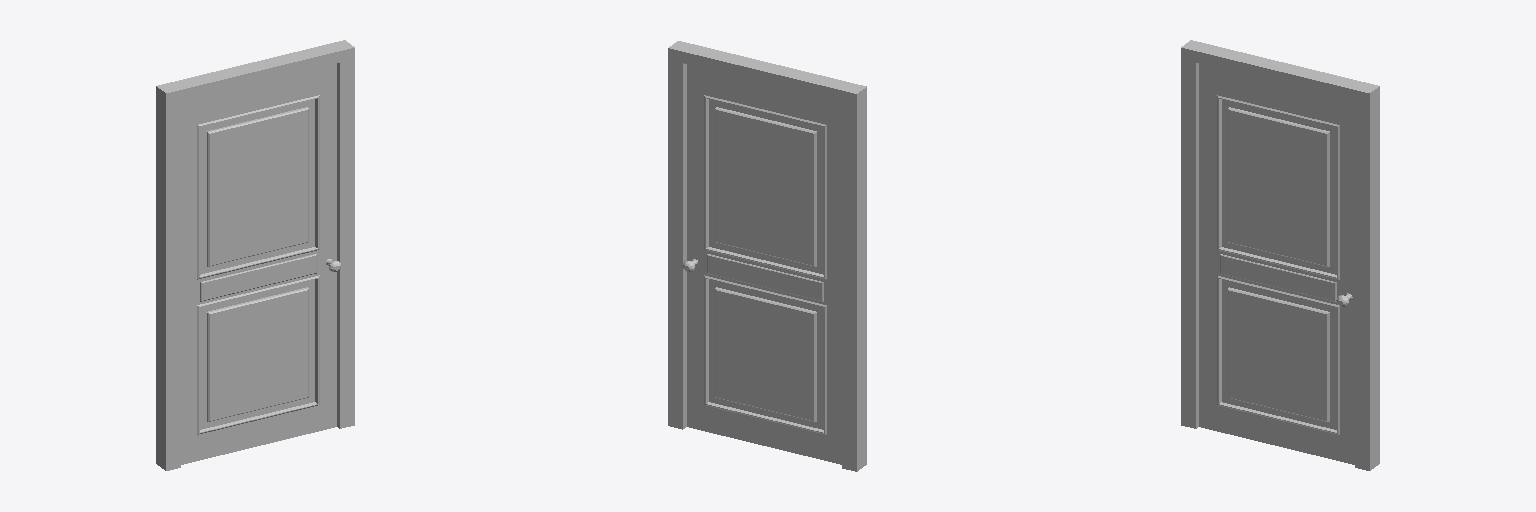
Rendered from door.obj.
3 renders of one model, left to right at view 1: azimuth 30°, elevation 25°; view 2: azimuth 150°, elevation 25°; view 3: azimuth 330°, elevation 25°, orthographic.
Parts seen in each view (by area): view 1: colored_door; view 2: colored_door; view 3: colored_door.
Boxes of the visible parts, x1=… form: colored_door: x1=156, y1=40, x2=354, y2=470; colored_door: x1=668, y1=41, x2=866, y2=471; colored_door: x1=1181, y1=40, x2=1379, y2=470.
Bounding box in the file's own units: 53.48 × 102 × 10.39.